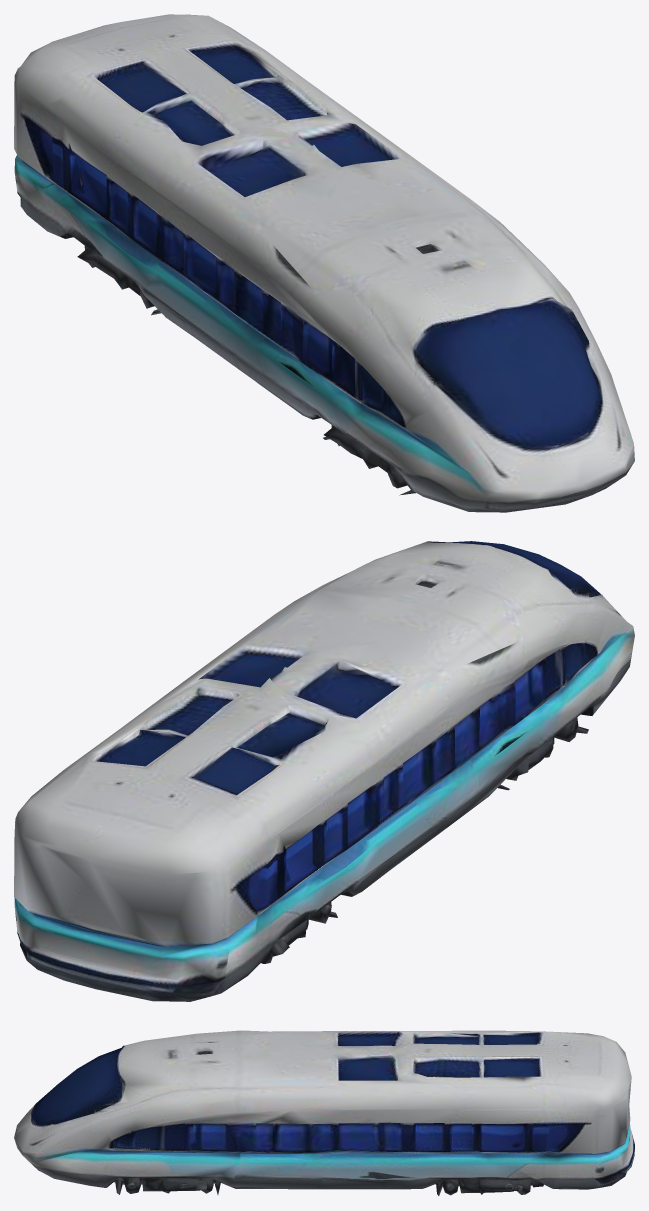
Rendered from trainM.glb.
3 views of the same model, one above another, from view 1: azimuth 30°, elevation 25°; view 2: azimuth 150°, elevation 25°; view 3: azimuth 270°, elevation 25° (orthographic). The views are drawn at different scales.
Parts seen in each view (by area): view 1: tripo_node_9af43c22-d155-4951-a107-1c7a567dc10d; view 2: tripo_node_9af43c22-d155-4951-a107-1c7a567dc10d; view 3: tripo_node_9af43c22-d155-4951-a107-1c7a567dc10d.
Boxes of the visible parts, x1=… form: tripo_node_9af43c22-d155-4951-a107-1c7a567dc10d: x1=14, y1=14, x2=634, y2=512; tripo_node_9af43c22-d155-4951-a107-1c7a567dc10d: x1=14, y1=541, x2=634, y2=1001; tripo_node_9af43c22-d155-4951-a107-1c7a567dc10d: x1=14, y1=1030, x2=634, y2=1195.
Bounding box in the file's own units: 0.2641 × 0.2151 × 1.
Materials: 1 (1 with a texture image).
